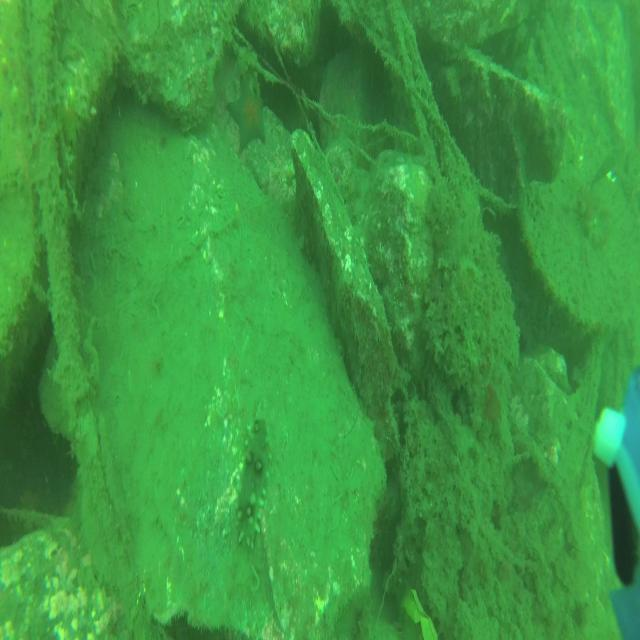holothurian: (234, 416, 270, 554)
starfish: (225, 69, 269, 159)
